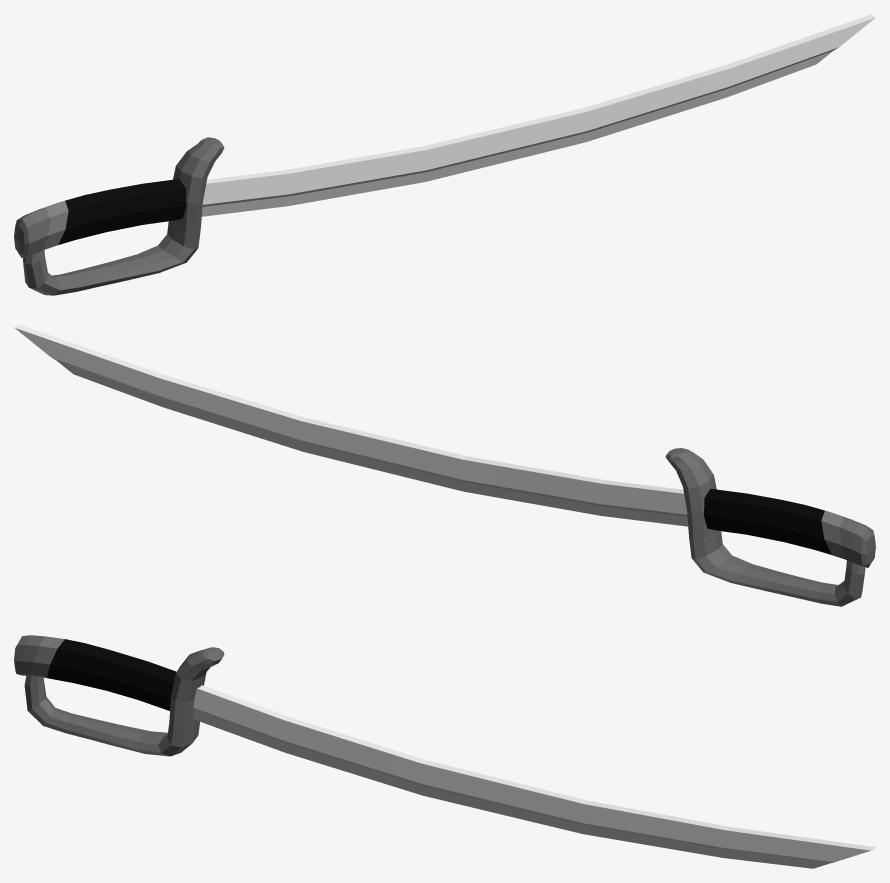
Rendered from SwordModel.fbx.
3 renders of one model, top to bottom at view 1: azimuth 30°, elevation 25°; view 2: azimuth 150°, elevation 25°; view 3: azimuth 330°, elevation 25°, orthographic.
Visible parts, largest first — view 1: SwordModel; view 2: SwordModel; view 3: SwordModel.
Boxes of the visible parts, <box> form: SwordModel: <box>14,14,875,295</box>; SwordModel: <box>14,324,875,606</box>; SwordModel: <box>14,635,875,868</box>.
Size of the model in its own units: 151 by 19.41 by 7.13.
